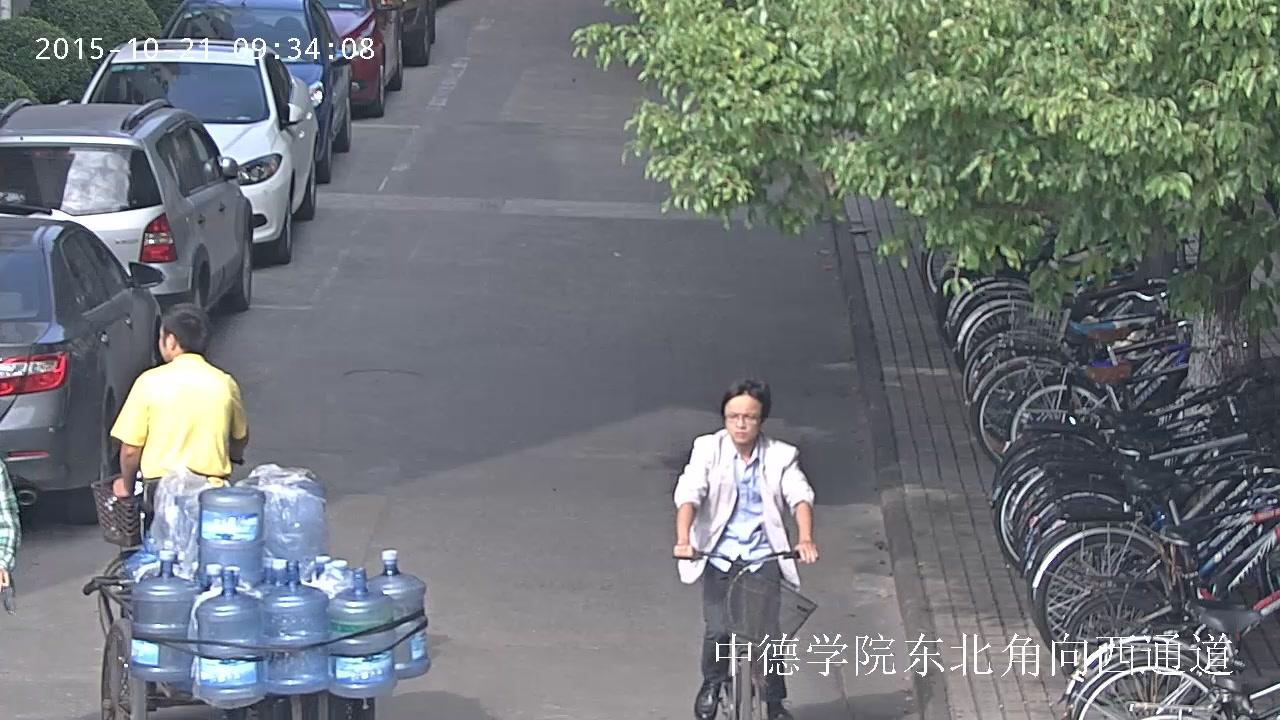face: (724, 394, 760, 443), (157, 323, 169, 362)
